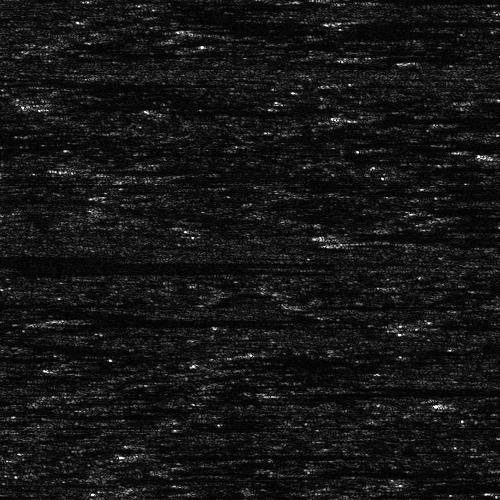rock: (76, 167, 253, 180), (4, 97, 87, 112), (436, 6, 500, 25), (437, 146, 500, 161), (215, 388, 320, 397), (421, 396, 500, 407), (362, 238, 455, 247), (307, 229, 380, 240), (31, 164, 114, 173), (242, 302, 347, 309), (399, 318, 462, 329), (291, 466, 364, 475), (356, 282, 439, 289), (339, 113, 402, 122), (19, 316, 82, 325), (161, 25, 234, 32), (328, 52, 381, 59), (100, 452, 153, 459), (298, 0, 433, 2), (322, 18, 375, 23), (0, 79, 27, 84)
shadow: (46, 97, 283, 112), (0, 251, 211, 264), (0, 264, 284, 273), (0, 258, 343, 265), (51, 316, 288, 325), (268, 388, 500, 397), (344, 229, 500, 240), (127, 452, 367, 459), (328, 466, 496, 475), (295, 302, 461, 309), (371, 113, 500, 122), (0, 79, 215, 84), (165, 167, 246, 180), (0, 193, 81, 204), (409, 238, 500, 247), (431, 318, 500, 329), (349, 18, 500, 23), (398, 282, 500, 289), (73, 164, 152, 173), (355, 52, 440, 59), (198, 25, 281, 32), (463, 396, 500, 407), (0, 302, 118, 305), (366, 0, 500, 2), (0, 376, 45, 381), (0, 118, 43, 123)
